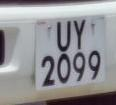0: (56, 51, 72, 88)
2: (38, 50, 57, 91)
9: (85, 46, 103, 85), (71, 47, 88, 87)
U: (55, 18, 74, 56)
Y: (71, 16, 89, 53)
